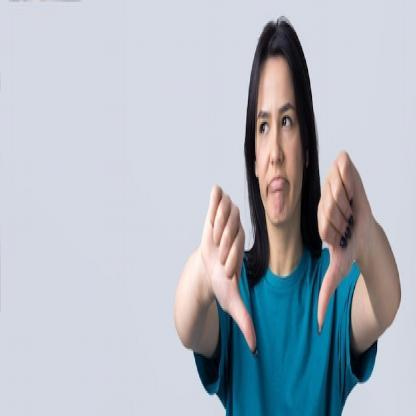thumb_down: (198, 182, 260, 363), (316, 142, 368, 338)
